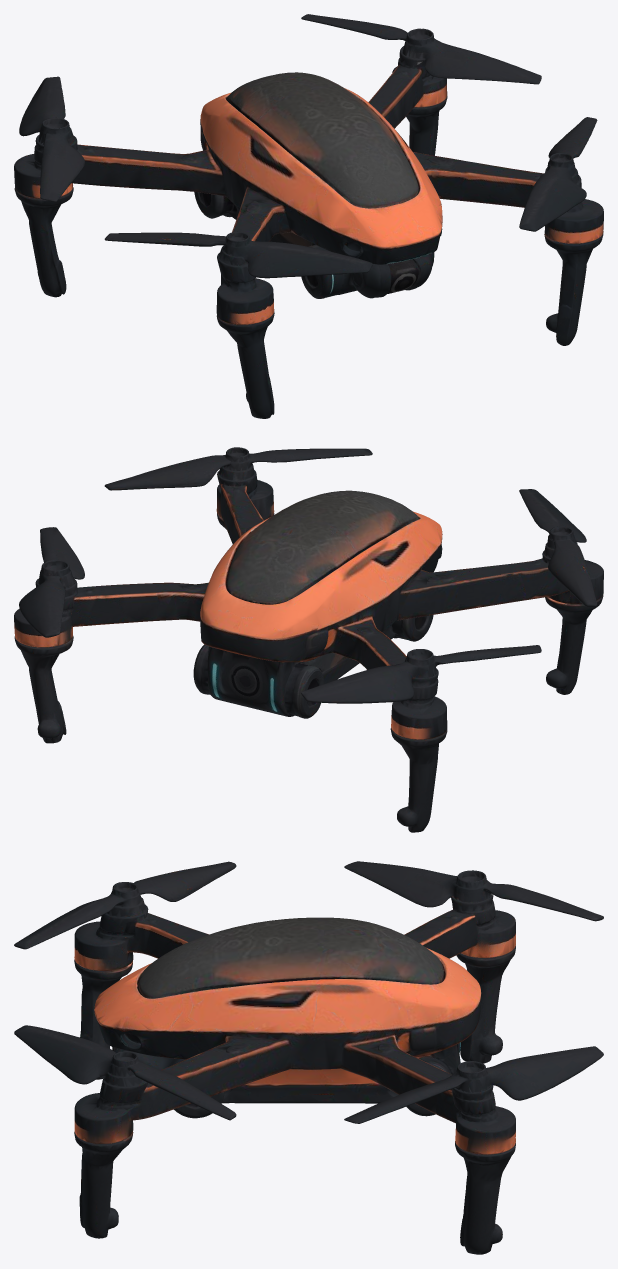
Rendered from drone2.glb.
3 renders of one model, top to bottom at view 1: azimuth 30°, elevation 25°; view 2: azimuth 150°, elevation 25°; view 3: azimuth 270°, elevation 25°, orthographic. The views are drawn at different scales.
Bounding box in the file's own units: 1.9 × 0.7715 × 1.81.
Materials: 1 (1 with a texture image).
